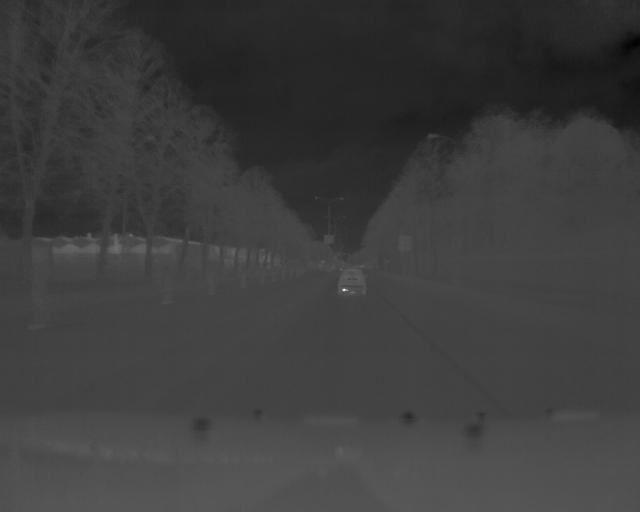car: (338, 262, 369, 297)
